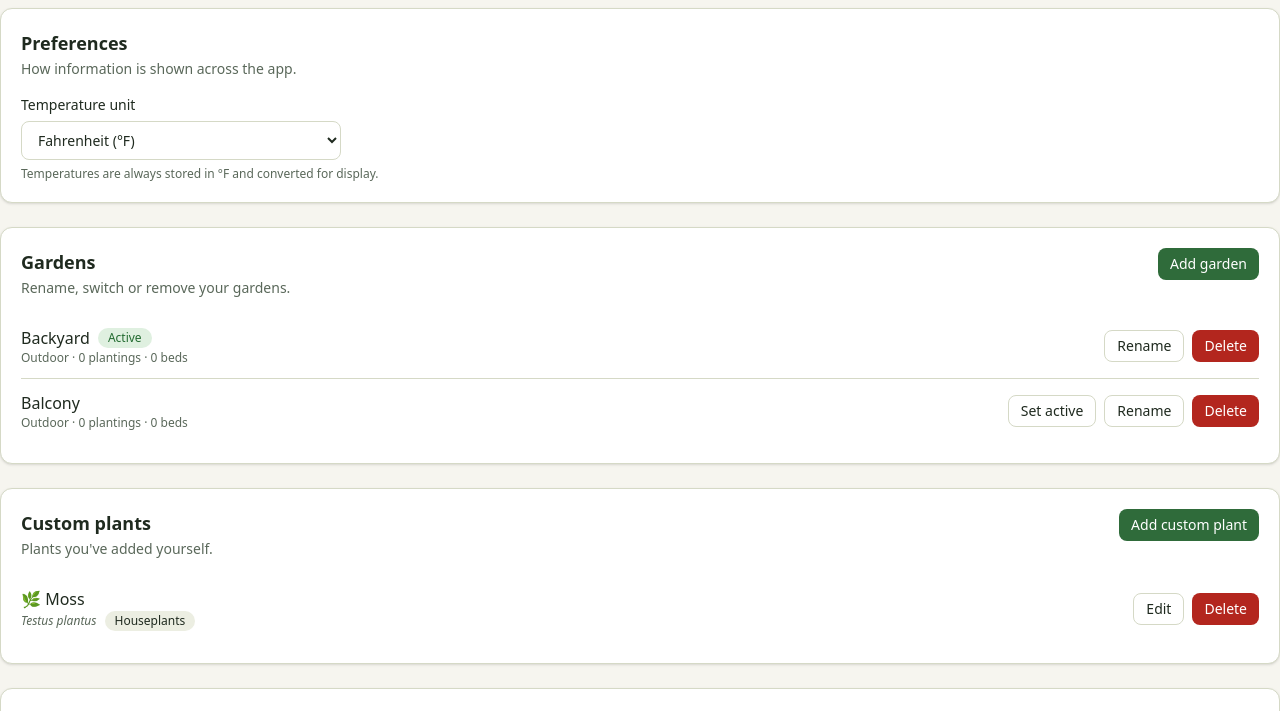
SettingsPage › custom plants › cancels editing without changes
Click the button with aria-label "Edit Moss": click(1159, 609) [1133,593,1184,625]
(page scrolled)
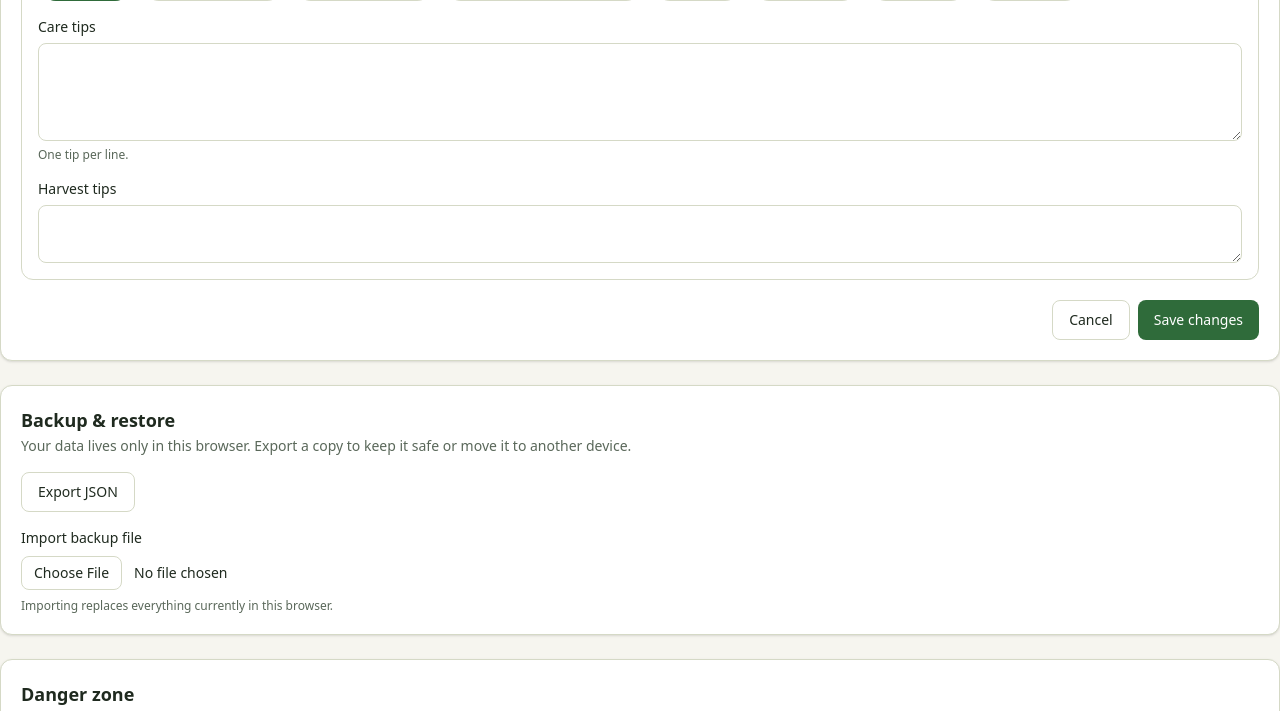
Click the button "Cancel": click(1091, 320) [1052,300,1130,340]
(page scrolled)
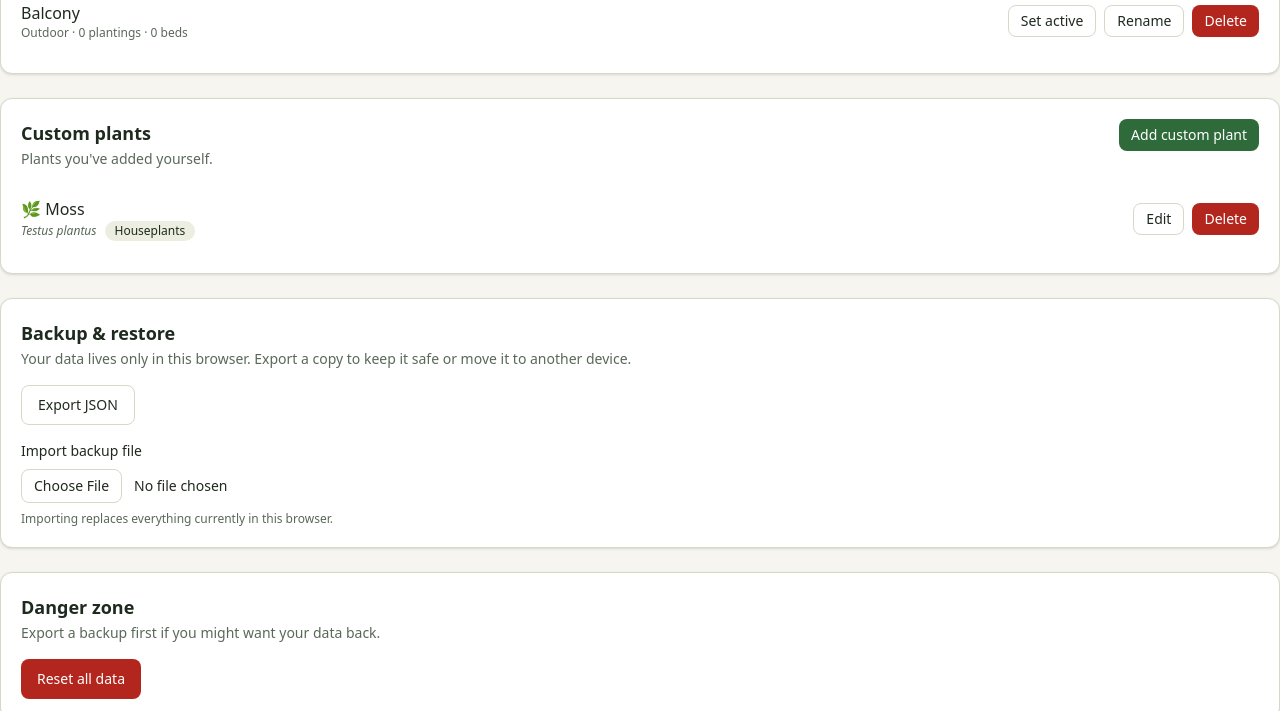
Check: the element "Custom plants" is shown, box [0,98,1279,274]
